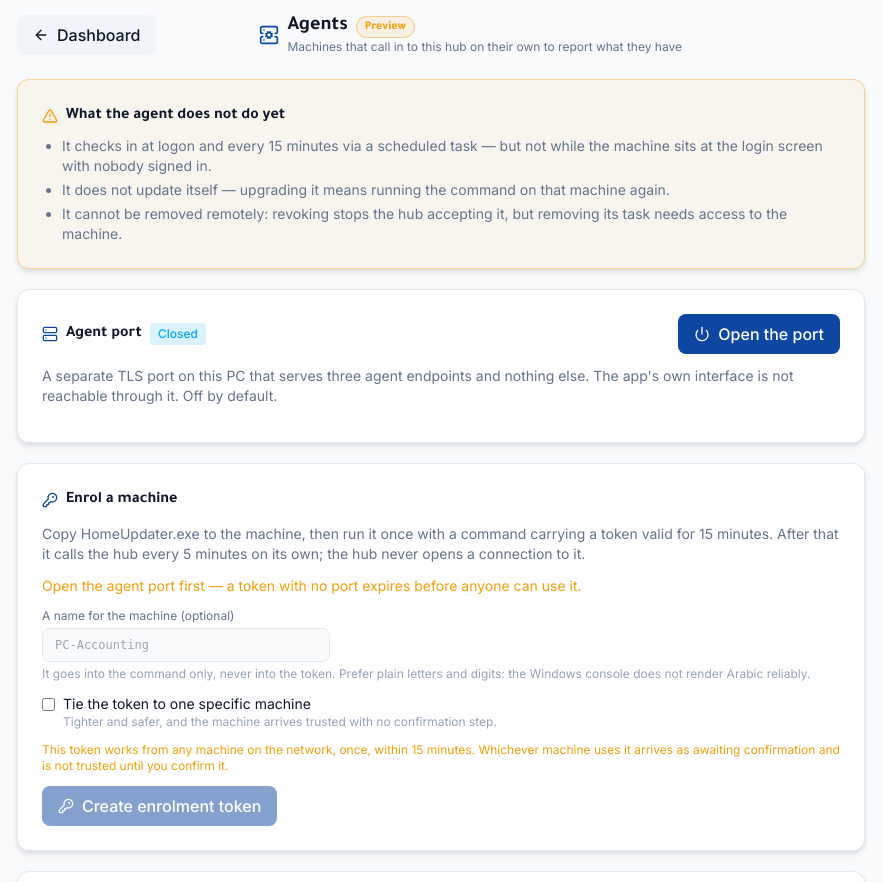
it: the listener › does not open the port on one click
The width and height of the screenshot is (883, 882).
expect the element with test id "listener-ready" is shown: met, box [17,289,865,443]
Click the button "Open the port" at [759, 334], box [678,314,840,354]
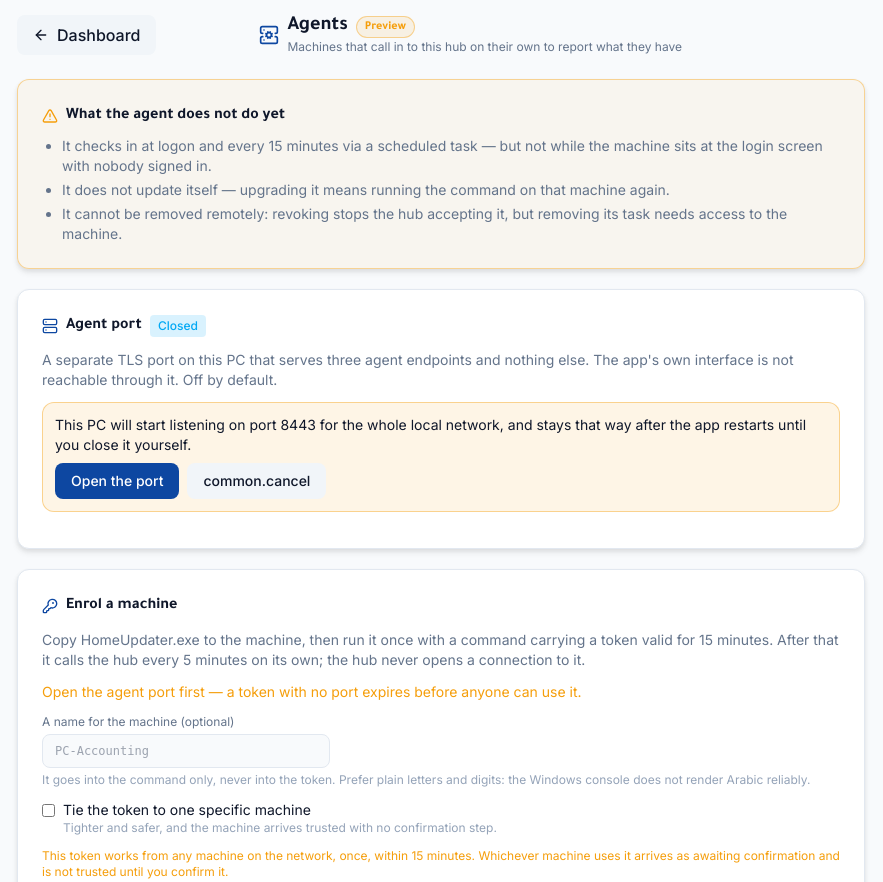
expect the text "whole local network" is shown: met, box [55,416,806,453]
